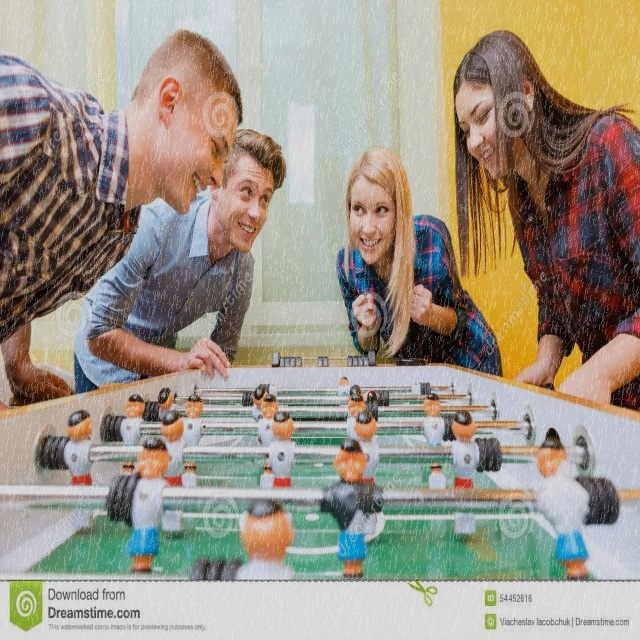pessoa: (450, 25, 640, 412), (72, 125, 290, 399), (334, 147, 502, 382)
